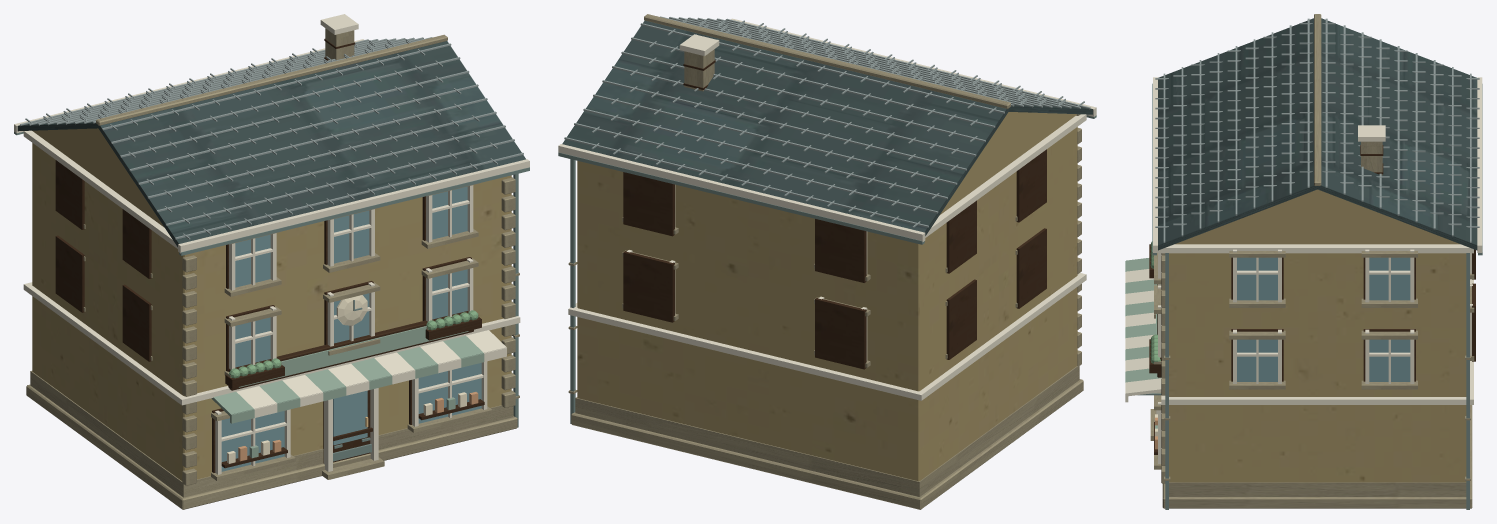
The model's file is north_post.glb.
The picture shows the model from 3 angles, left to right: view 1: azimuth 30°, elevation 25°; view 2: azimuth 150°, elevation 25°; view 3: azimuth 270°, elevation 25°; orthographic projection. The views are drawn at different scales.
Visible parts, largest first — view 1: north_post / north_post painted plaster, north_post / slate roof, north_post / limestone, north_post / ivory joinery, north_post / slate tile edge, north_post / oiled walnut, north_post / blue grey opaque glass, north_post / sage canopy, north_post / aged dark bronze, north_post / paper cream, north_post / window box leaves; view 2: north_post / north_post painted plaster, north_post / slate roof, north_post / limestone, north_post / oiled walnut, north_post / slate tile edge, north_post / ivory joinery, north_post / aged dark bronze; view 3: north_post / north_post painted plaster, north_post / slate roof, north_post / limestone, north_post / slate tile edge, north_post / ivory joinery, north_post / blue grey opaque glass, north_post / aged dark bronze, north_post / sage canopy, north_post / oiled walnut.
Boxes of the visible parts, x1,y1,x2,y2 form: north_post / north_post painted plaster: [32, 128, 511, 480]; north_post / slate roof: [17, 41, 525, 246]; north_post / limestone: [26, 28, 519, 509]; north_post / ivory joinery: [14, 14, 529, 474]; north_post / slate tile edge: [20, 37, 523, 239]; north_post / oiled walnut: [55, 39, 484, 472]; north_post / blue grey opaque glass: [221, 186, 481, 471]; north_post / sage canopy: [211, 326, 484, 458]; north_post / aged dark bronze: [14, 132, 529, 461]; north_post / paper cream: [227, 295, 466, 463]; north_post / window box leaves: [229, 310, 478, 378]; north_post / north_post painted plaster: [577, 112, 1077, 481]; north_post / slate roof: [562, 20, 1092, 235]; north_post / limestone: [568, 14, 1083, 509]; north_post / oiled walnut: [623, 60, 1046, 369]; north_post / slate tile edge: [564, 16, 1090, 227]; north_post / ivory joinery: [558, 18, 1096, 400]; north_post / aged dark bronze: [558, 115, 1096, 423]; north_post / north_post painted plaster: [1169, 189, 1466, 482]; north_post / slate roof: [1158, 18, 1477, 250]; north_post / limestone: [1150, 14, 1474, 508]; north_post / slate tile edge: [1155, 18, 1479, 242]; north_post / ivory joinery: [1125, 77, 1482, 463]; north_post / blue grey opaque glass: [1237, 257, 1410, 381]; north_post / aged dark bronze: [1138, 83, 1482, 509]; north_post / sage canopy: [1125, 258, 1160, 428]; north_post / oiled walnut: [1149, 145, 1475, 454].
Size of the model in its own units: 11.94 by 11.32 by 10.7.
Materials: 13 (4 with a texture image).
